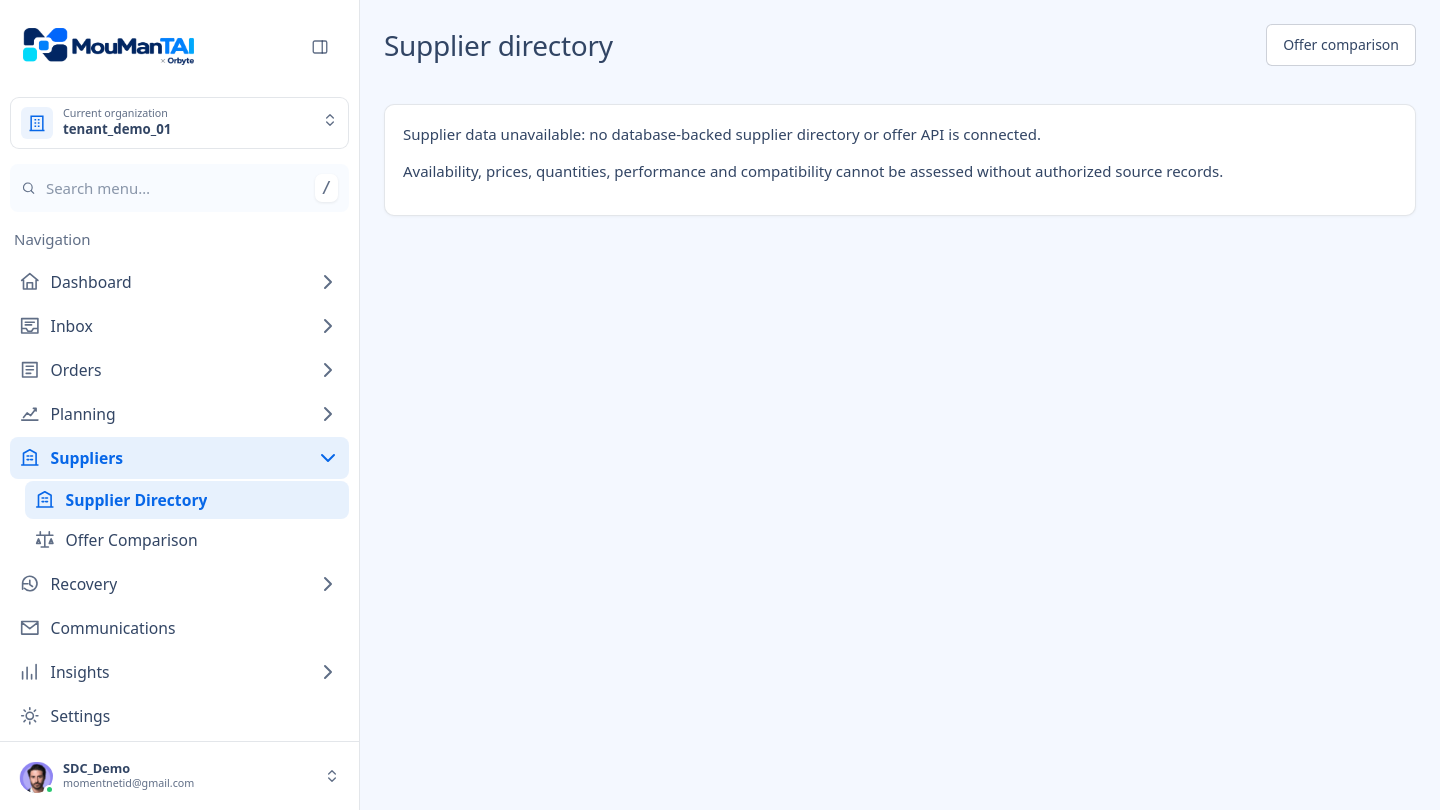
it: database-backed supplier availability › keeps navigation available without displaying hardcoded supplier records
Check: the heading "Supplier directory" is shown, box [384, 24, 613, 66]
Check: the message shows "Supplier data unavailable", box [403, 124, 1041, 144]
Click the link "Offer comparison" at point(1341, 45), box [1266, 24, 1416, 66]
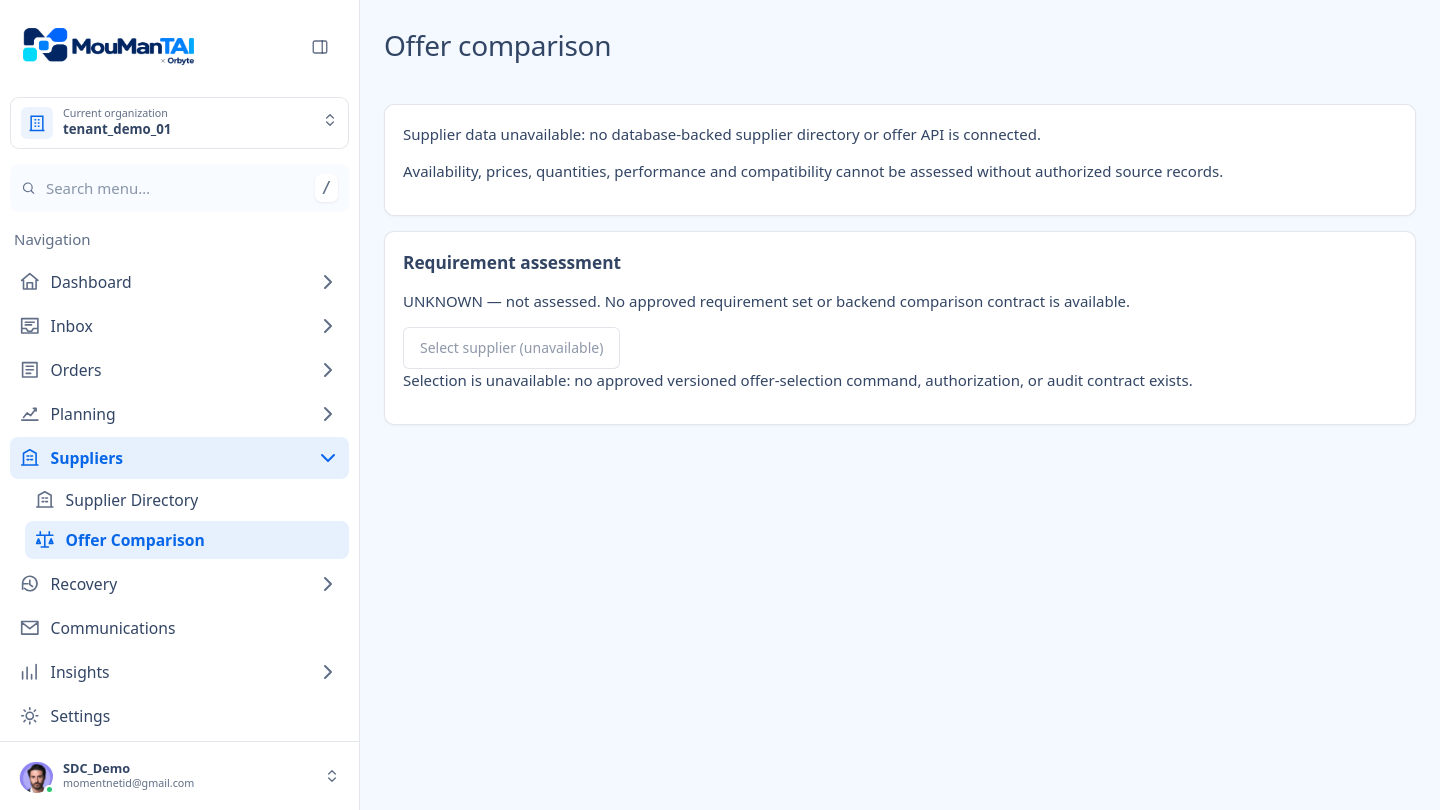
Check: the heading "Offer comparison" is shown, box [384, 24, 611, 66]
